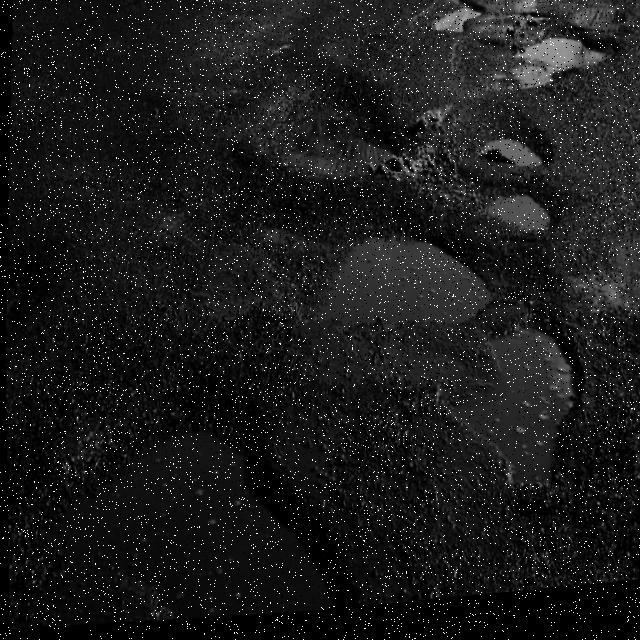pothole: (32, 388, 342, 638), (438, 310, 588, 522), (308, 216, 500, 350), (241, 78, 406, 204), (500, 18, 621, 97), (454, 112, 550, 189), (472, 185, 554, 256), (420, 0, 492, 54)
